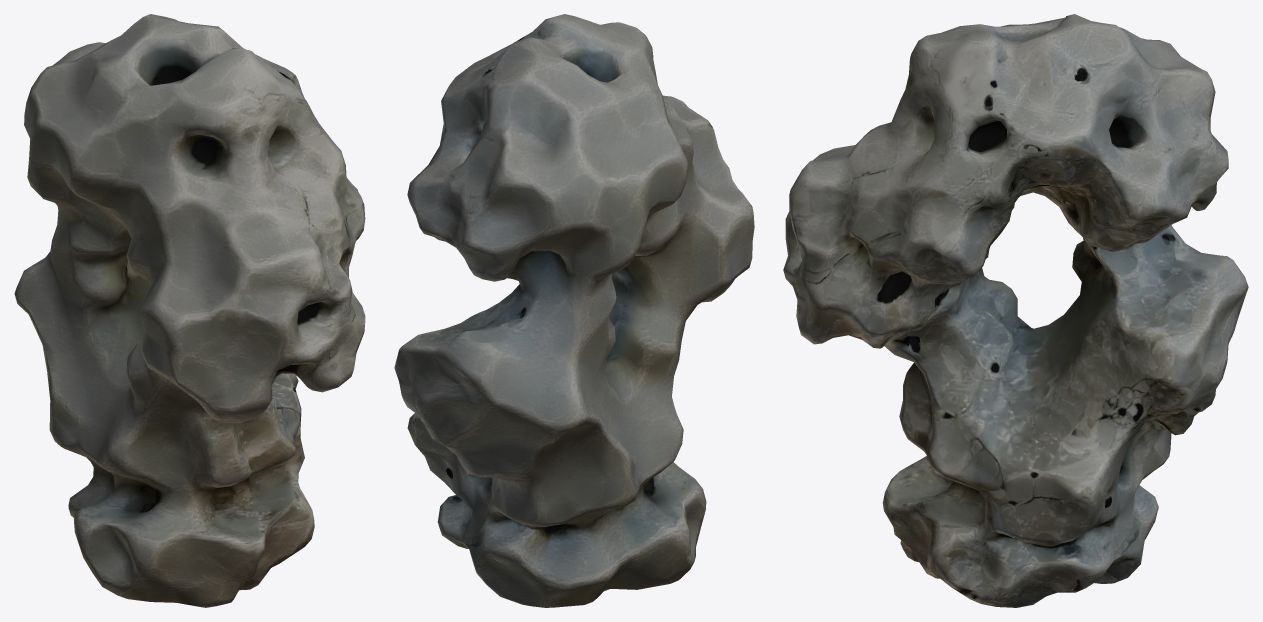
The model's file is rock.glb.
3 renders of one model, left to right at view 1: azimuth 30°, elevation 25°; view 2: azimuth 150°, elevation 25°; view 3: azimuth 270°, elevation 25°, orthographic. The views are drawn at different scales.
Visible parts, largest first — view 1: tripo_node_d7f6ae35-a268-43ec-80be-0b1b361d2d4e; view 2: tripo_node_d7f6ae35-a268-43ec-80be-0b1b361d2d4e; view 3: tripo_node_d7f6ae35-a268-43ec-80be-0b1b361d2d4e.
Part boxes in pixels (x1,y1,x2,y2): tripo_node_d7f6ae35-a268-43ec-80be-0b1b361d2d4e: (14,14,365,607); tripo_node_d7f6ae35-a268-43ec-80be-0b1b361d2d4e: (394,14,754,607); tripo_node_d7f6ae35-a268-43ec-80be-0b1b361d2d4e: (783,14,1248,607).
Size of the model in its own units: 0.498 by 0.998 by 0.7676.
1 material, 1 textured.
